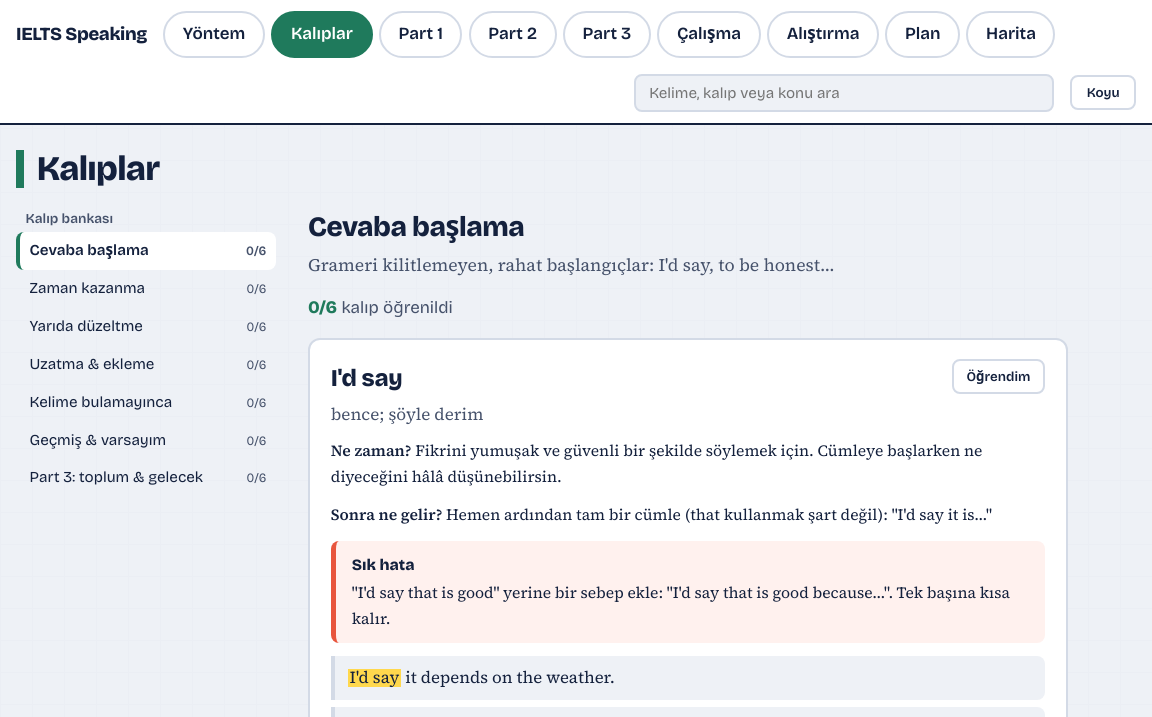
phrases page › search with regex chars and no match shows empty state
Type "(*" into the search field.
click(844, 93); type("(*")  # box [634,74,1054,112]
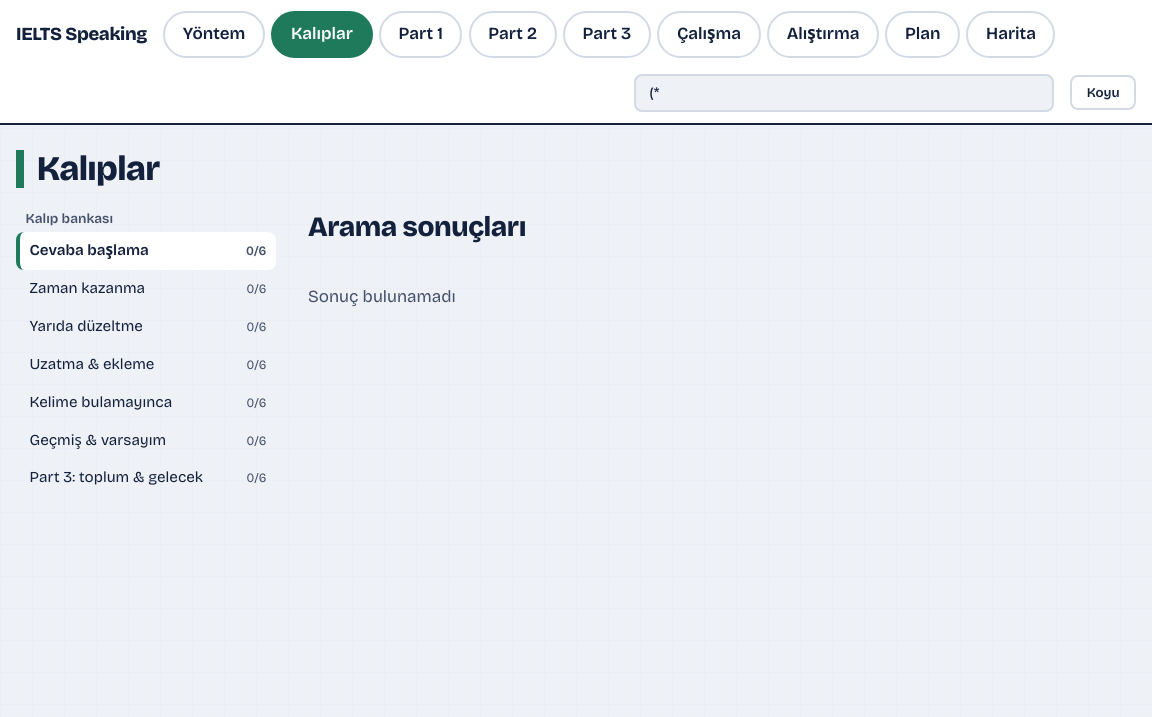
Now the text "Sonuç bulunamadı" is shown, box [308,286,456,307]
